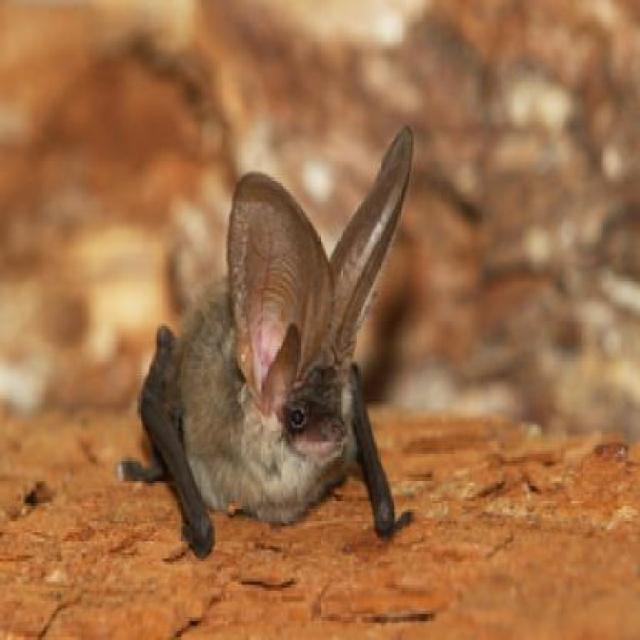Bat: (126, 124, 433, 570)
